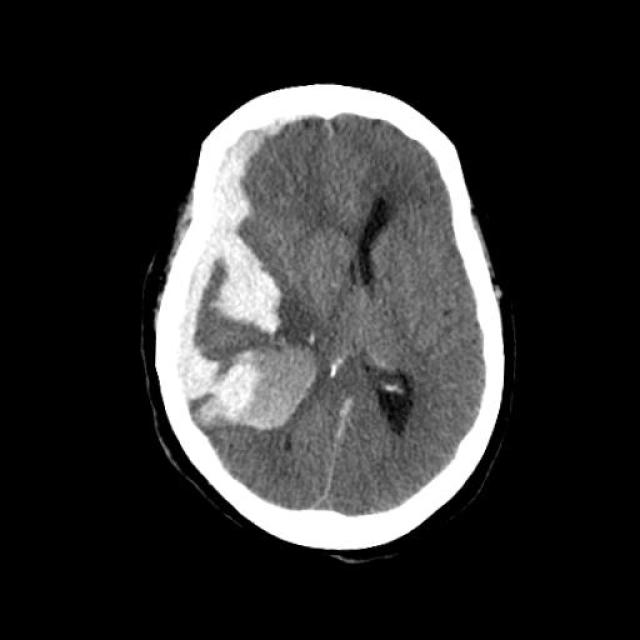Intraparenchymal: (206, 230, 294, 340)
Intraventricular: (210, 335, 320, 456)
Subdural: (101, 107, 281, 435)
